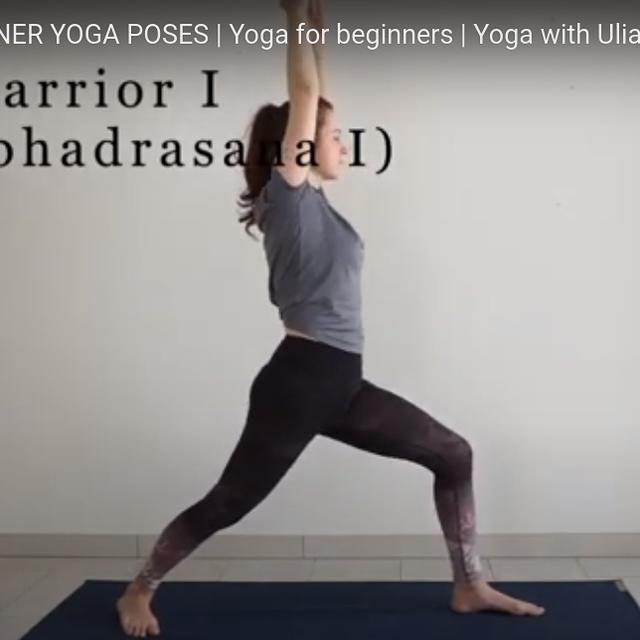Warrior_I: (114, 8, 546, 635)
